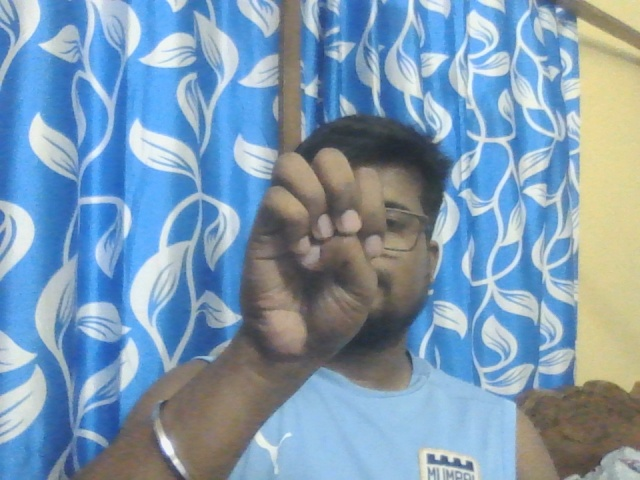E: (240, 147, 377, 356)
